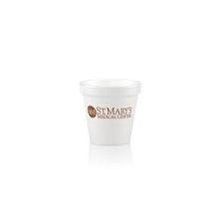paper_cup: (75, 74, 144, 151)
